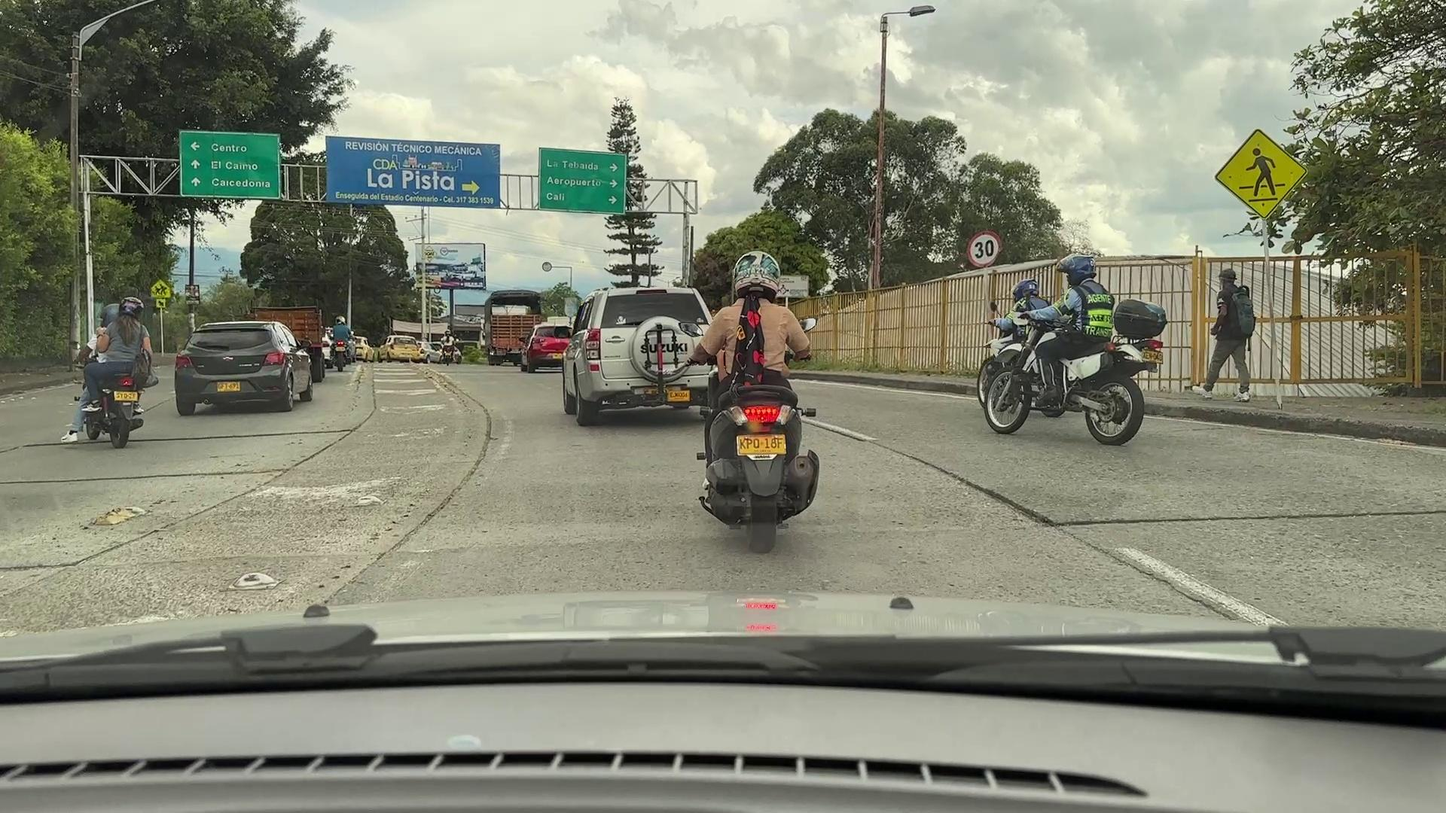grieta: (951, 474, 1056, 527)
